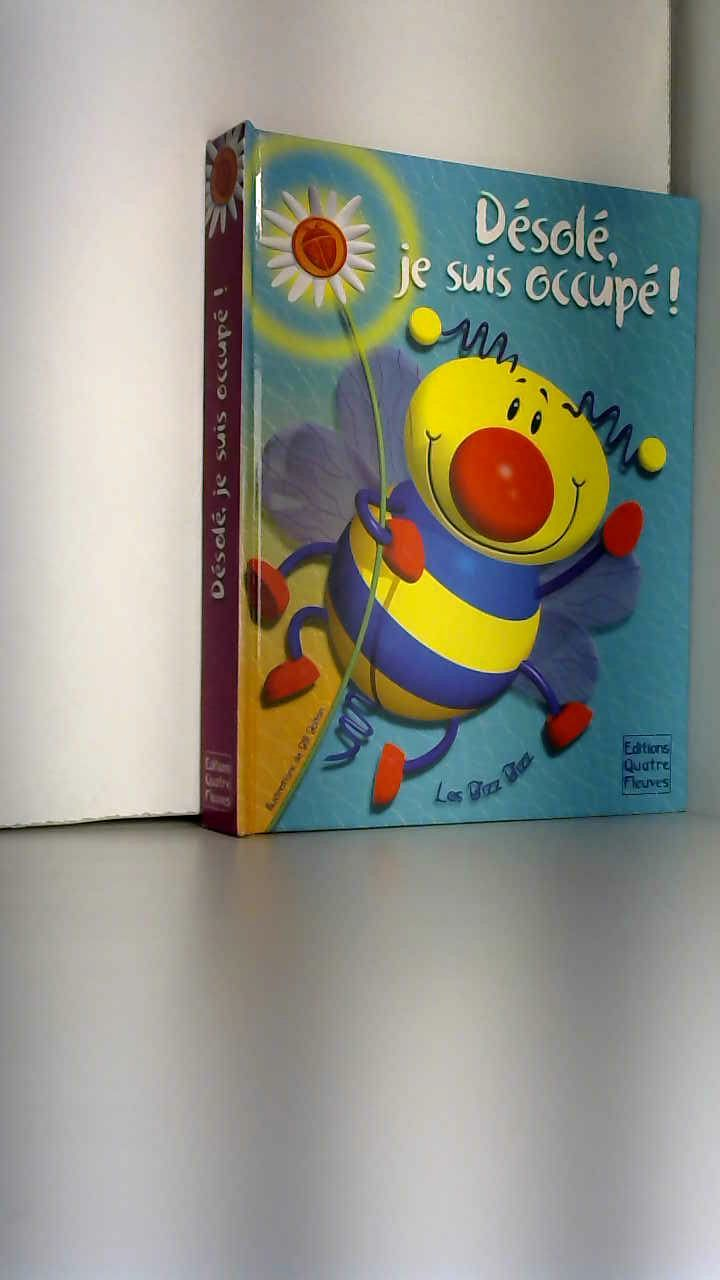book: (171, 95, 720, 870)
